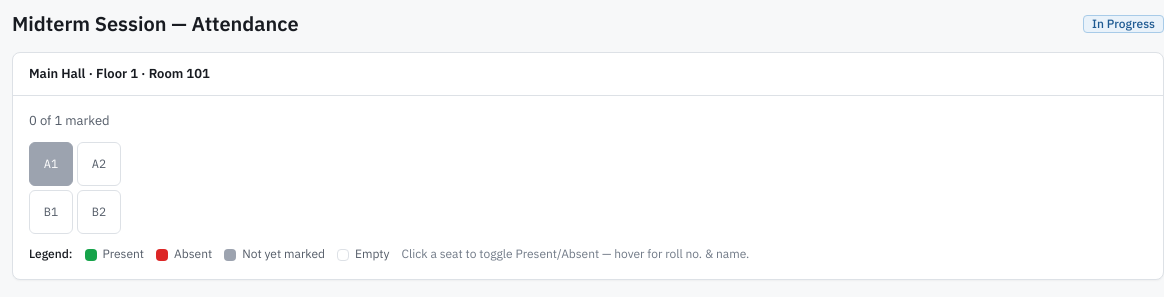
Test case: Faculty attendance marking › toggles attendance directly on seat click (Present on first click, no separate panel) and updates the seat color / progress
Expected: the heading "Midterm Session — Attendance" is shown, [12, 12, 299, 36]
Expected: the text "0 of 1 marked" is shown, [29, 112, 110, 129]
Click the button named "seat a1, jane doe (r001), attendance not yet marked" at [51, 164], box [29, 142, 73, 186]
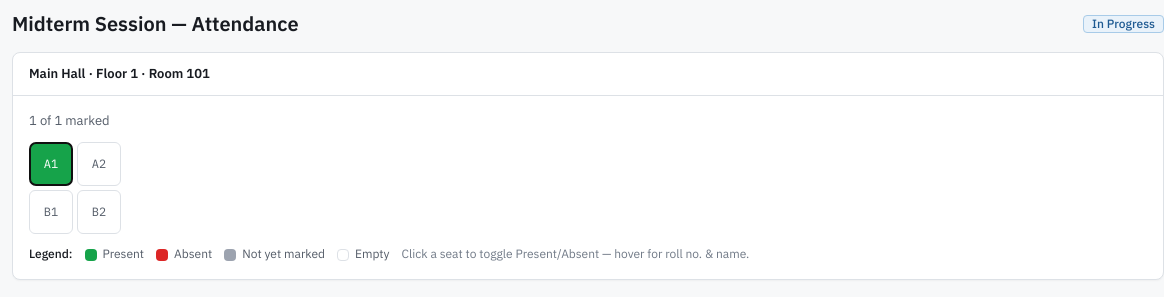
Result: the text "1 of 1 marked" is shown at [29, 112, 110, 129]
Result: the button named "seat a1, jane doe (r001), attendance present" is shown at [29, 142, 73, 186]
